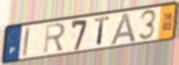3: (138, 9, 158, 42)
7: (71, 20, 88, 52)
A: (108, 11, 137, 46)
I: (22, 26, 32, 58)
R: (42, 22, 67, 55)
T: (94, 16, 111, 47)
